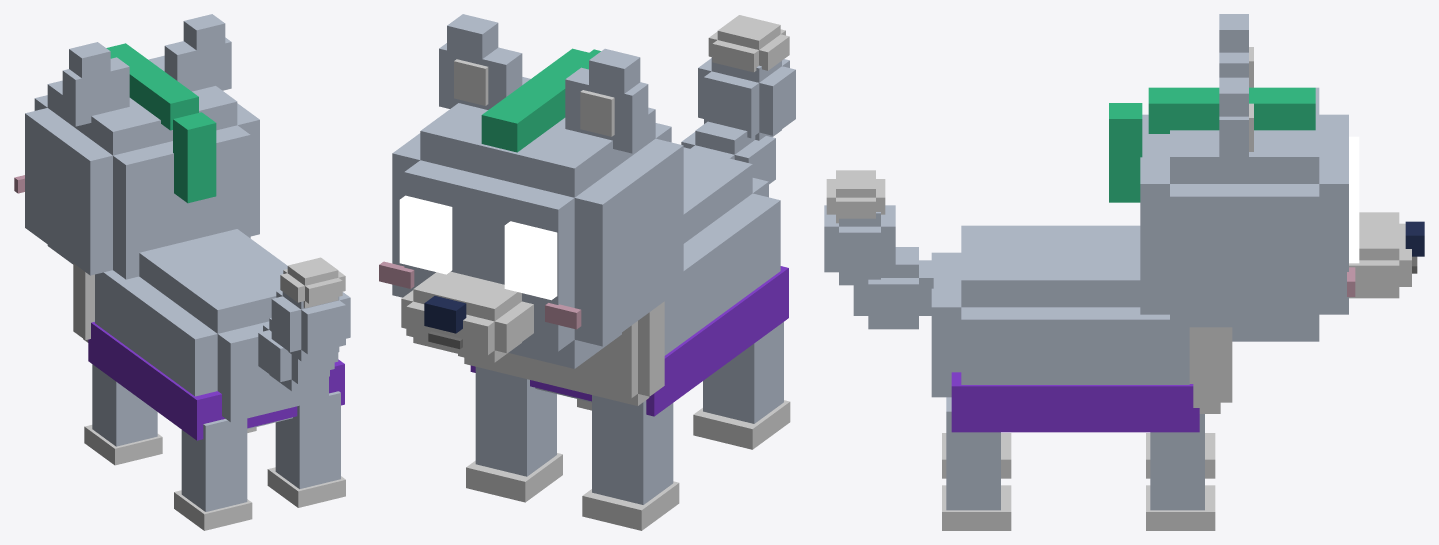
File: AuroraWolf.glb
3 views of the same model, side by side, from view 1: azimuth 30°, elevation 25°; view 2: azimuth 150°, elevation 25°; view 3: azimuth 270°, elevation 25° (orthographic). The views are drawn at different scales.
Visible parts, largest first — view 1: Voxel; view 2: Voxel; view 3: Voxel.
Boxes of the visible parts, box(x1,y1,x2,y2) form: Voxel: box(14, 14, 350, 530); Voxel: box(379, 14, 795, 530); Voxel: box(824, 14, 1424, 530).
Size of the model in its own units: 2.13 by 4.6 by 5.72.
